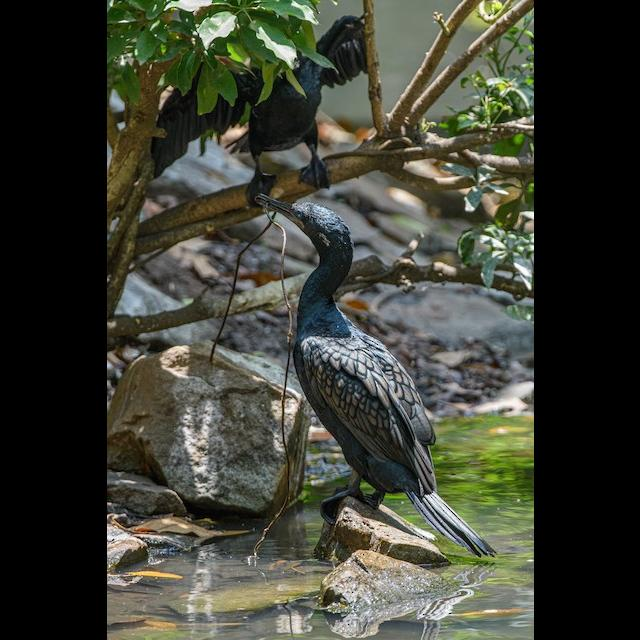cormorant: (241, 192, 489, 564), (149, 16, 377, 180)
